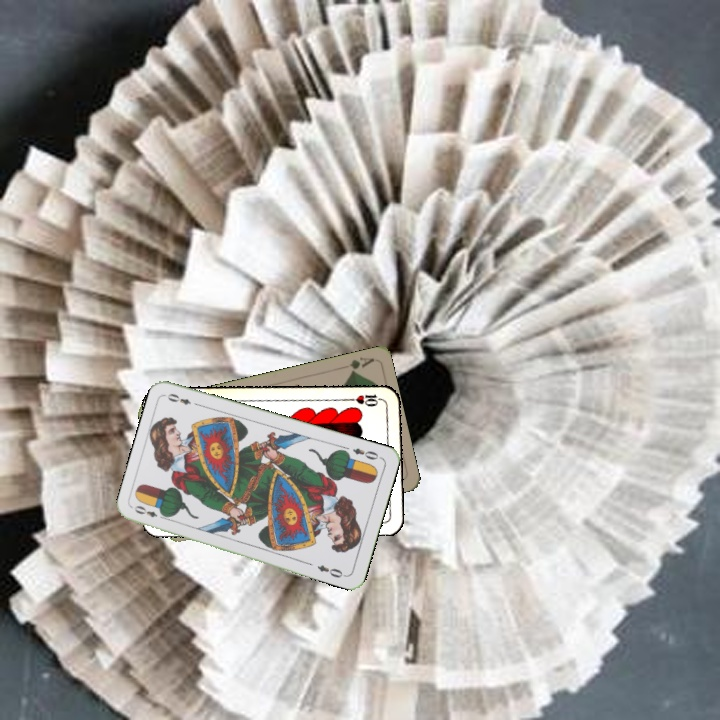EO: (130, 501, 170, 522), (348, 444, 381, 462)
GA: (345, 353, 376, 376)
H10: (345, 390, 386, 409)
